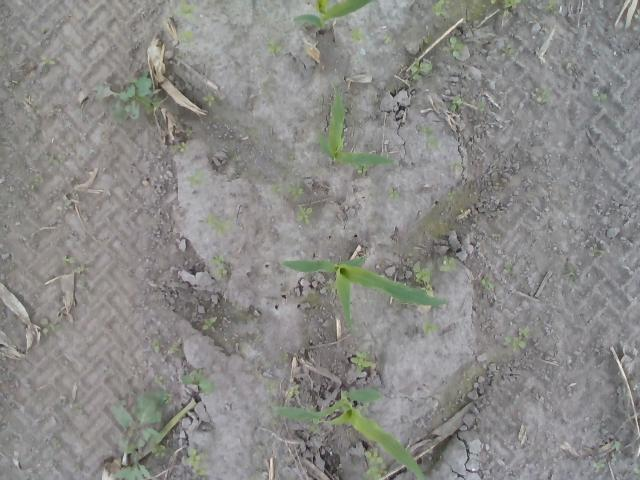Maize: (270, 387, 426, 480), (280, 256, 450, 330), (318, 82, 398, 168), (292, 0, 373, 36)
Weeds: (110, 388, 172, 480), (93, 70, 159, 129), (182, 367, 218, 393), (182, 447, 208, 480), (365, 446, 387, 480), (504, 326, 528, 352), (408, 57, 434, 80), (206, 214, 233, 236), (416, 122, 438, 146), (350, 350, 373, 372), (176, 0, 200, 20), (412, 260, 433, 282), (38, 317, 62, 336), (448, 30, 464, 58), (264, 38, 288, 56), (210, 255, 226, 280), (184, 170, 208, 186), (610, 440, 624, 466), (296, 206, 313, 226), (438, 254, 456, 272), (286, 184, 306, 200), (178, 28, 192, 48), (589, 460, 608, 474), (421, 322, 440, 335), (432, 0, 446, 17), (350, 26, 364, 42), (501, 40, 516, 54), (201, 92, 215, 107), (591, 88, 606, 102), (26, 175, 38, 192), (450, 96, 462, 113), (48, 152, 62, 166), (286, 383, 301, 396), (265, 380, 278, 394), (388, 186, 402, 199), (503, 0, 523, 9), (170, 142, 185, 154), (382, 32, 393, 48), (152, 374, 168, 385), (202, 318, 215, 331), (353, 164, 368, 175), (448, 160, 464, 170), (308, 419, 320, 432), (481, 277, 494, 289), (40, 55, 54, 65), (270, 182, 284, 192), (541, 86, 549, 103), (632, 463, 640, 480), (481, 0, 496, 9), (152, 338, 160, 354), (418, 36, 430, 46), (53, 438, 63, 450), (280, 350, 290, 361), (503, 262, 513, 272), (547, 0, 557, 9), (168, 343, 178, 352), (447, 190, 456, 200), (184, 126, 192, 137), (64, 255, 72, 265), (480, 102, 487, 111), (342, 138, 348, 148), (343, 104, 348, 114), (319, 95, 324, 104)
